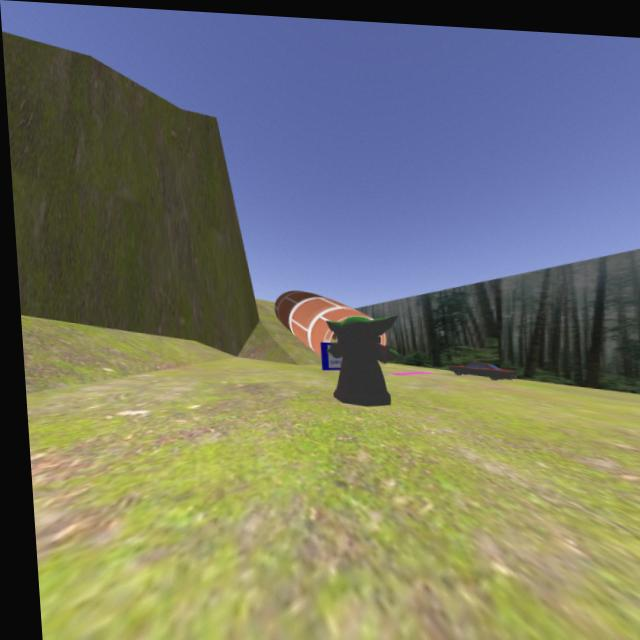yoda: (323, 311, 411, 412)
